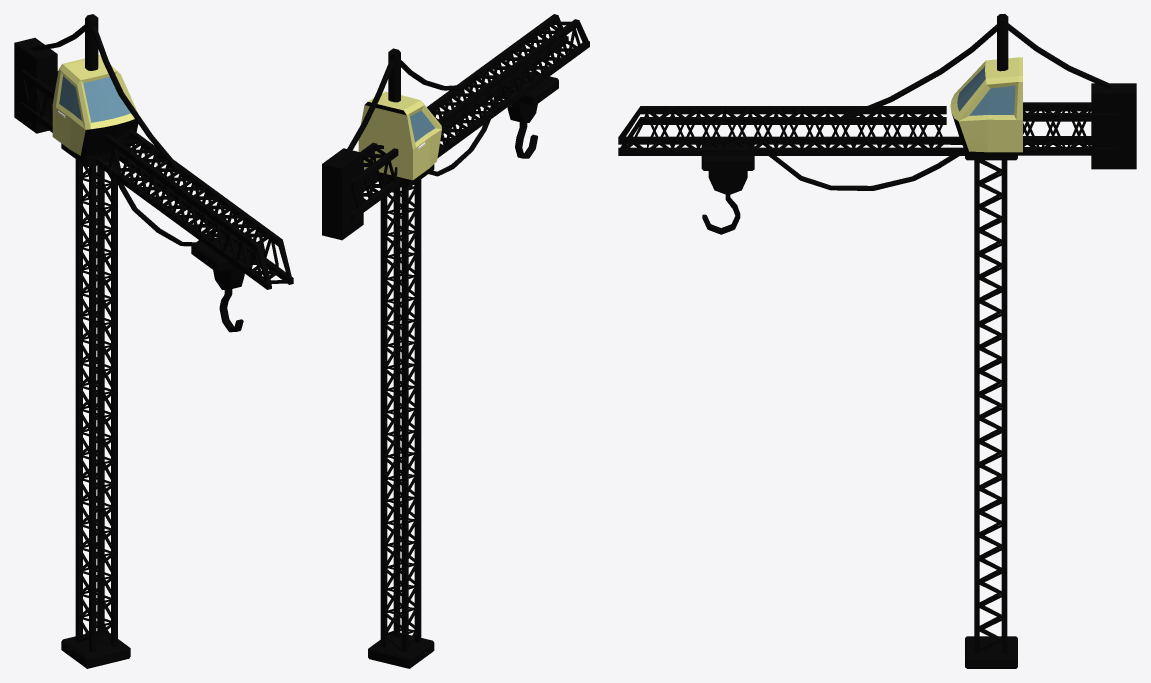
Rendered from Grua.fbx.
The picture shows the model from 3 angles, left to right: view 1: azimuth 30°, elevation 25°; view 2: azimuth 150°, elevation 25°; view 3: azimuth 270°, elevation 25°; orthographic projection. The views are drawn at different scales.
Visible parts, largest first — view 1: pCylinder3; view 2: pCylinder3; view 3: pCylinder3.
Part boxes in pixels (x1=…): pCylinder3: x1=14, y1=14, x2=293, y2=668; pCylinder3: x1=322, y1=14, x2=589, y2=668; pCylinder3: x1=618, y1=14, x2=1136, y2=668.
Bounding box in the file's own units: 254 × 2693 × 1965.
